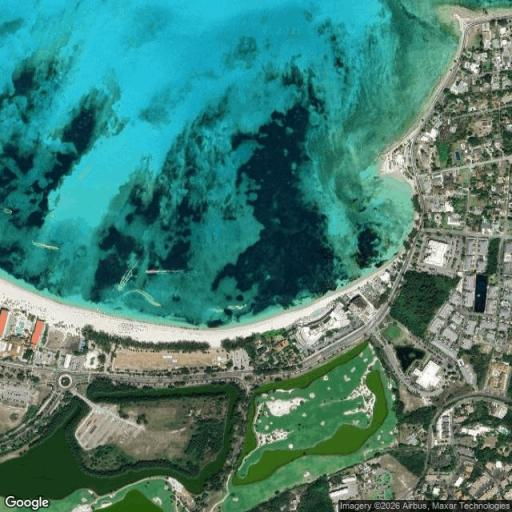ship: (134, 287, 164, 310), (117, 260, 137, 291), (32, 241, 59, 250), (146, 269, 191, 274), (226, 302, 251, 311), (205, 305, 226, 314), (4, 208, 12, 214)
